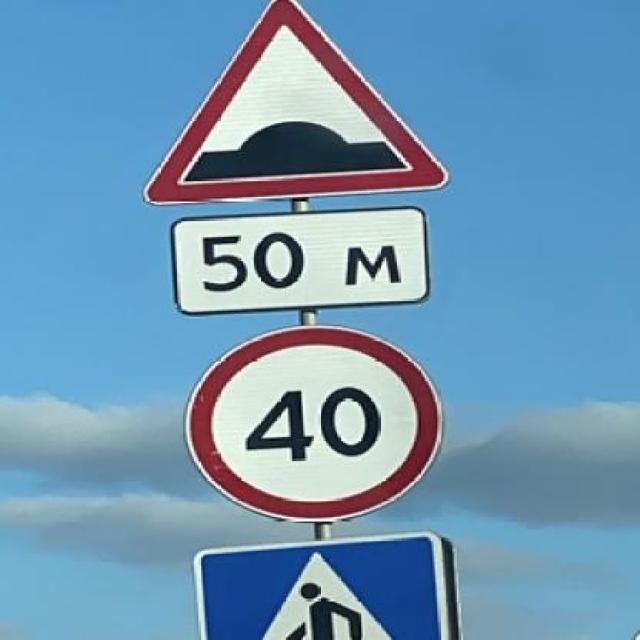forb_speed_over_40: (182, 325, 445, 517)
